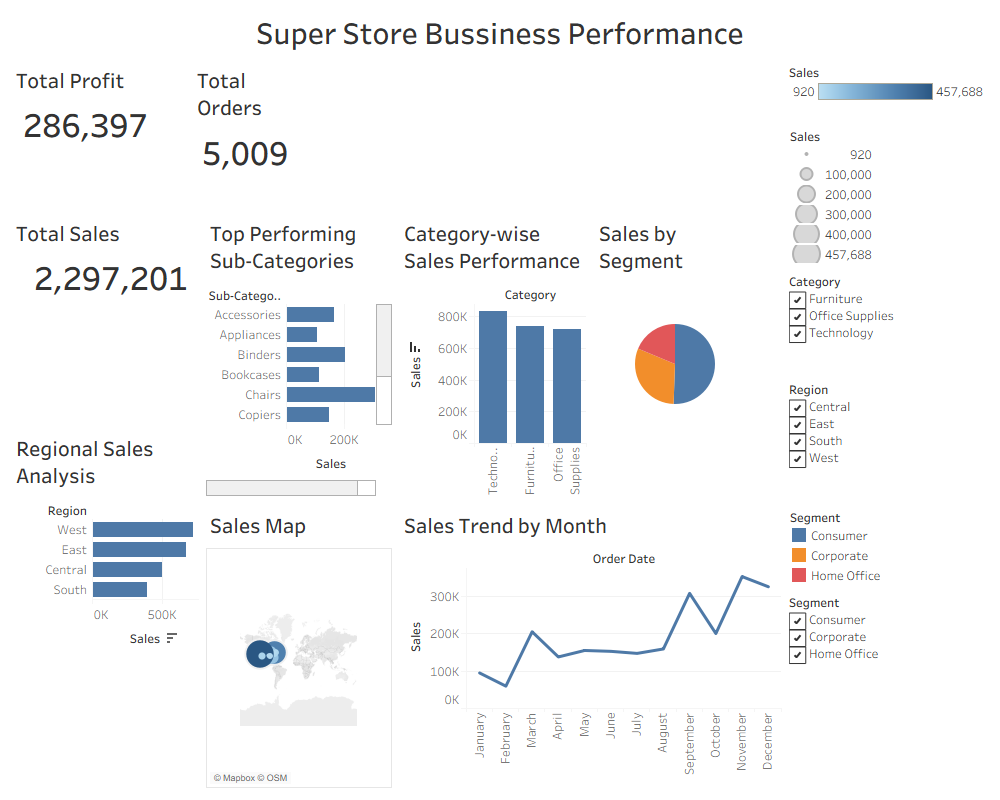

The dashboard page shown, as its layout file describes it:
{"tool":"powerbi","page":{"name":"Page 1","canvas":[1280,720],"ordinal":0},"visuals":[{"type":"cardVisual","fields":{"Data":["Sum(Sample - Superstore.Sales)"]},"box":[8.4,109.2,196.5,105.8],"z":0},{"type":"clusteredColumnChart","fields":{"Y":["Sum(Sample - Superstore.Profit)"],"Category":["Sample - Superstore.Category"]},"box":[0,255.3,215,245.2],"z":1000},{"type":"clusteredBarChart","fields":{"Category":["Sample - Superstore.Region"],"Y":["Sum(Sample - Superstore.Sales)"]},"box":[215,253.6,300.7,246.9],"z":2000},{"type":"lineChart","fields":{"Category":["Sample - Superstore.Order Date.Variation.Date Hierarchy.Year","Sample - Superstore.Order Date.Variation.Date Hierarchy.Quarter","Sample - Superstore.Order Date.Variation.Date Hierarchy.Month","Sample - Superstore.Order Date.Variation.Date Hierarchy.Day"],"Y":["Sum(Sample - Superstore.Sales)"]},"box":[497.2,280.5,351.1,220.1],"z":3000},{"type":"donutChart","fields":{"Category":["Sample - Superstore.Segment"],"Y":["Sum(Sample - Superstore.Sales)"]},"box":[737.4,500.6,367.9,213.3],"z":4000},{"type":"clusteredBarChart","fields":{"Category":["Sample - Superstore.Sub-Category"],"Y":["Sum(Sample - Superstore.Sales)"]},"box":[863.4,287.2,403.1,201.6],"z":5000},{"type":"cardVisual","fields":{"Data":["Sum(Sample - Superstore.Profit)"]},"box":[231.8,110.9,178.1,104.1],"z":6000},{"type":"cardVisual","fields":{"Data":["Sample - Superstore.Orders"]},"box":[441.8,110.9,147.8,115.9],"z":7000},{"type":"cardVisual","fields":{"Data":["Sample - Superstore.Profit %"]},"box":[628.2,117.6,183.1,104.1],"z":8000},{"type":"slicer","fields":{"Values":["Sample - Superstore.Region"]},"box":[0,533.5,197,180],"z":8001},{"type":"slicer","fields":{"Values":["Sample - Superstore.Category"]},"box":[196.5,547.6,300.7,166.3],"z":8002},{"type":"slicer","fields":{"Values":["Sample - Superstore.Segment"]},"box":[498,548,259,166],"z":8003},{"type":"textbox","box":[31.9,30.2,890.3,79],"z":8004}]}

Visuals, with their boxes on the page's 1280x720 design canvas (x1, y1, x2, y2). These are canvas units, not pixel positions in the 1000x800 screenshot, which may show the page scaled, cropped or inside an application window:
cardVisual - Sum(Sample - Superstore.Sales): [x1=8, y1=109, x2=205, y2=215]
clusteredColumnChart - Sum(Sample - Superstore.Profit) x Sample - Superstore.Category: [x1=0, y1=255, x2=215, y2=500]
clusteredBarChart - Sample - Superstore.Region x Sum(Sample - Superstore.Sales): [x1=215, y1=254, x2=516, y2=500]
lineChart - Sample - Superstore.Order Date.Variation.Date Hierarchy.Year x Sample - Superstore.Order Date.Variation.Date Hierarchy.Quarter: [x1=497, y1=280, x2=848, y2=501]
donutChart - Sample - Superstore.Segment x Sum(Sample - Superstore.Sales): [x1=737, y1=501, x2=1105, y2=714]
clusteredBarChart - Sample - Superstore.Sub-Category x Sum(Sample - Superstore.Sales): [x1=863, y1=287, x2=1266, y2=489]
cardVisual - Sum(Sample - Superstore.Profit): [x1=232, y1=111, x2=410, y2=215]
cardVisual - Sample - Superstore.Orders: [x1=442, y1=111, x2=590, y2=227]
cardVisual - Sample - Superstore.Profit %: [x1=628, y1=118, x2=811, y2=222]
slicer - Sample - Superstore.Region: [x1=0, y1=534, x2=197, y2=714]
slicer - Sample - Superstore.Category: [x1=196, y1=548, x2=497, y2=714]
slicer - Sample - Superstore.Segment: [x1=498, y1=548, x2=757, y2=714]
textbox: [x1=32, y1=30, x2=922, y2=109]
